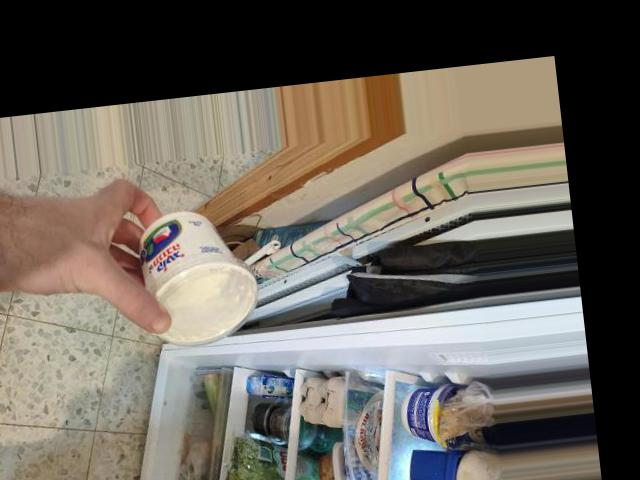cotage: (138, 217, 268, 333)
